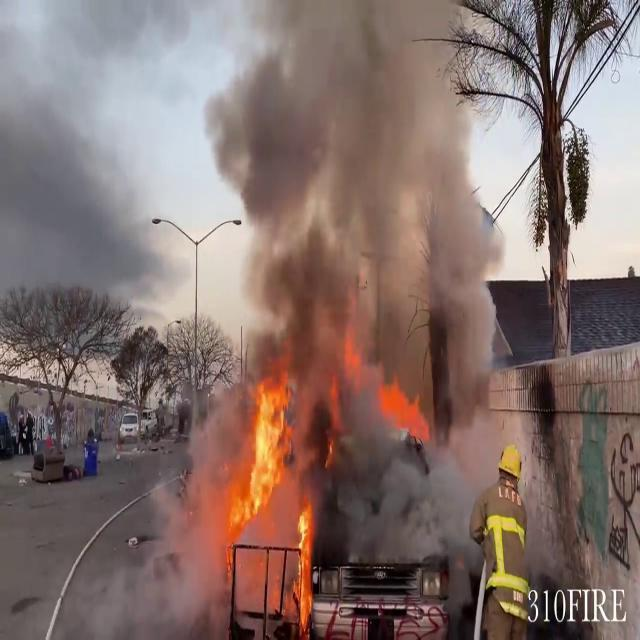Fire: (202, 371, 318, 633)
Smoke: (202, 0, 510, 500), (95, 392, 239, 638)
